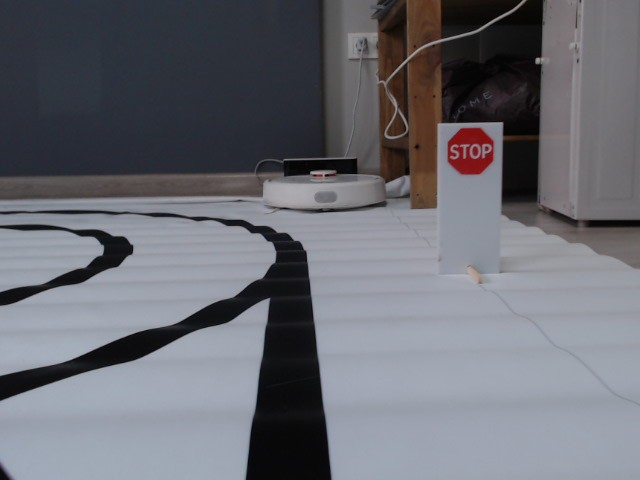Stop: (445, 124, 494, 172)
